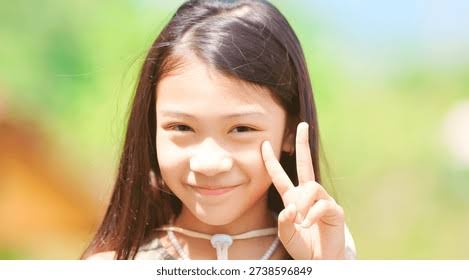peace_sign: (256, 117, 349, 262)
